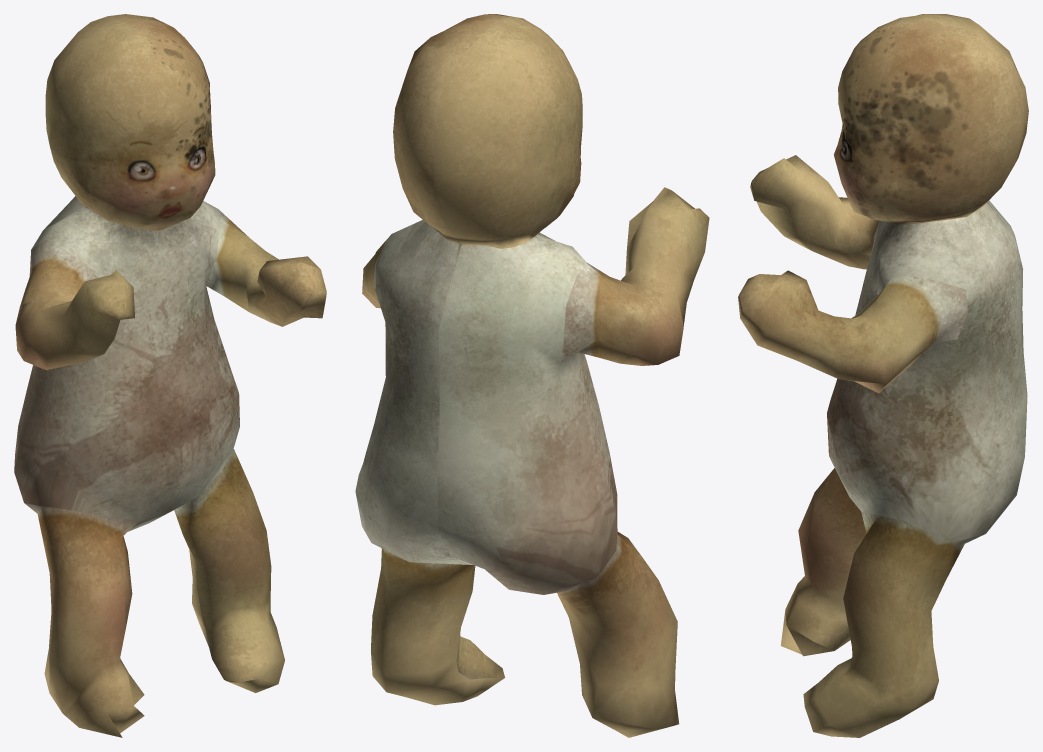
File: Prop_Top_Doll.fbx
3 renders of one model, left to right at view 1: azimuth 30°, elevation 25°; view 2: azimuth 150°, elevation 25°; view 3: azimuth 270°, elevation 25°, orthographic. The views are drawn at different scales.
Visible parts, largest first — view 1: polySurface1; view 2: polySurface1; view 3: polySurface1.
Part boxes in pixels (<box>): polySurface1: <box>14,14,326,737</box>; polySurface1: <box>355,14,709,737</box>; polySurface1: <box>738,14,1028,737</box>.
Size of the model in its own units: 1.39 by 3.16 by 1.24.
